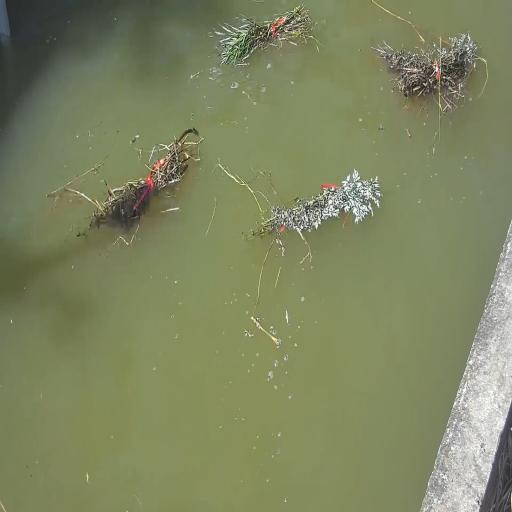twig: (249, 156, 379, 246), (95, 116, 196, 225), (376, 40, 472, 109), (218, 6, 313, 68)
